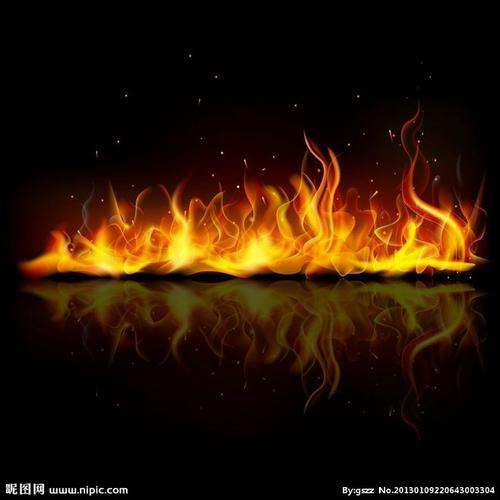fire: (45, 204, 481, 273)
